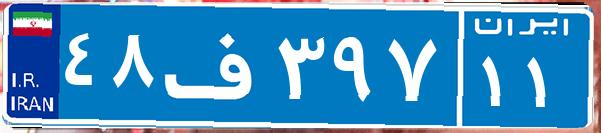1: (475, 38, 525, 113), (525, 38, 570, 115)
3: (273, 28, 330, 110)
4: (57, 26, 110, 107)
7: (385, 28, 445, 110)
8: (110, 28, 158, 105)
9: (330, 28, 385, 110)
ف: (158, 15, 273, 115)
